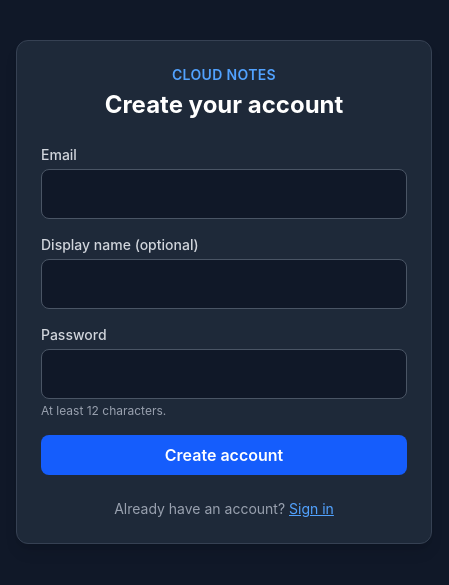
RegisterPage › shows field errors from validation_failed
Type "ann@example.com" into the field labelled "Email" at (224, 194), box [41,169,407,219]
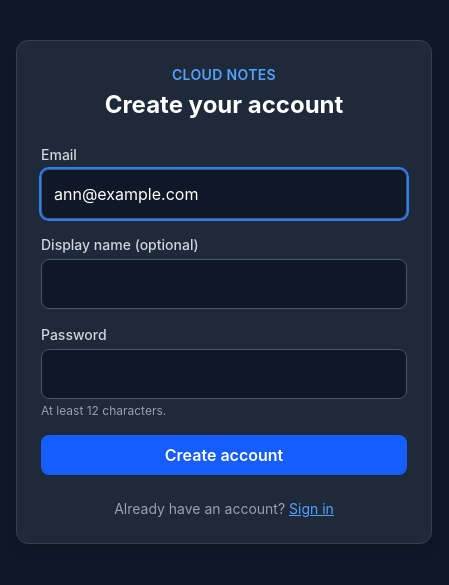
Type "a-long-enough-password" into the password field labelled "Password" at (224, 374), box [41,349,407,399]
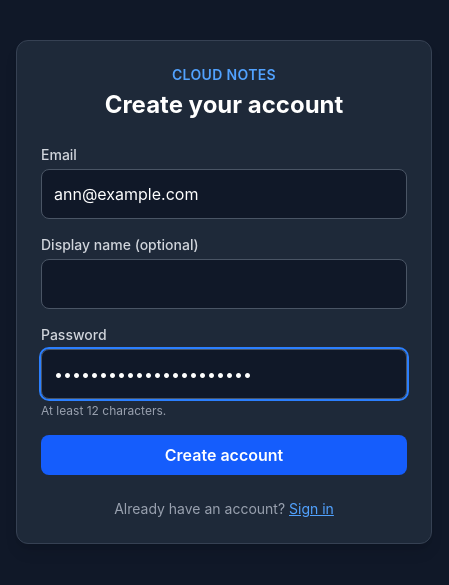
Click the button "Create account" at (224, 455), box [41,435,407,475]
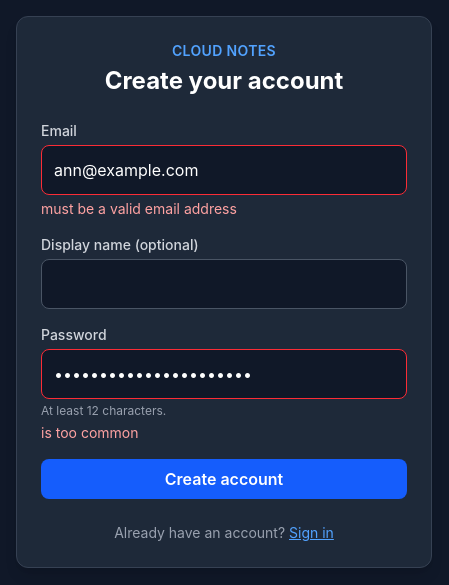
Now the text "must be a valid email address" is shown, box [41,200,237,217]
Now the text "is too common" is shown, box [41,424,138,441]
